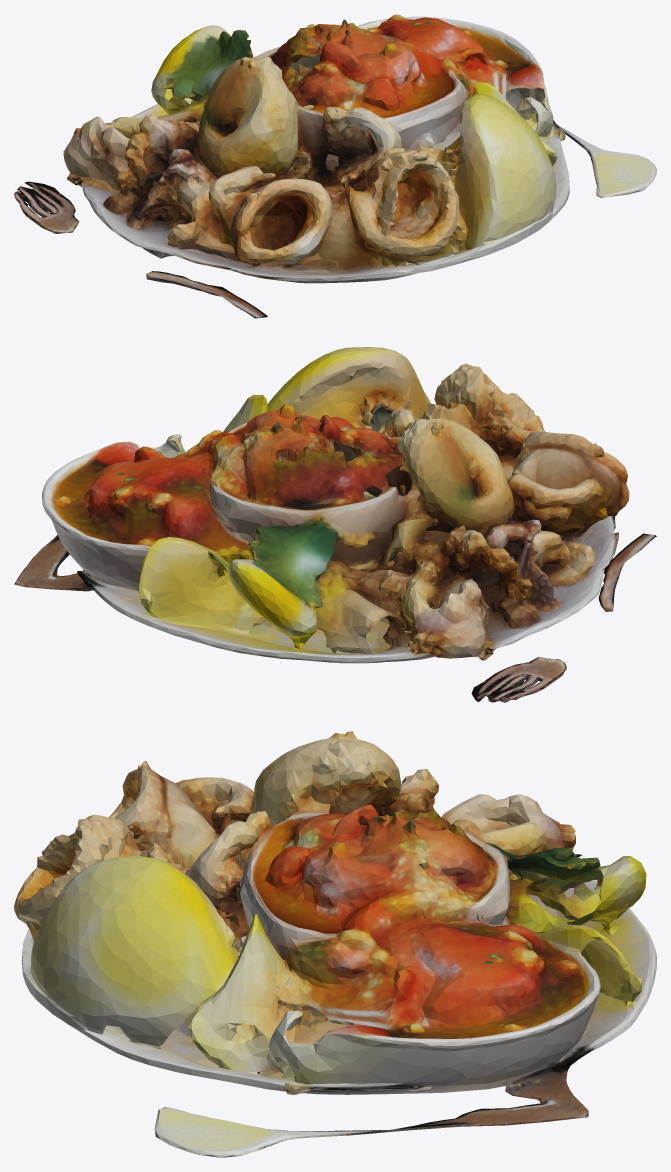
The model's file is Crispy Calamari.glb.
The picture shows the model from 3 angles, top to bottom: view 1: azimuth 30°, elevation 25°; view 2: azimuth 150°, elevation 25°; view 3: azimuth 270°, elevation 25°; orthographic projection. The views are drawn at different scales.
Parts seen in each view (by area): view 1: world; view 2: world; view 3: world.
Boxes of the visible parts, bbox=[...] form: world: bbox=[14, 14, 656, 318]; world: bbox=[14, 347, 656, 702]; world: bbox=[14, 731, 656, 1157].
Bounding box in the file's own units: 0.9922 × 0.3053 × 0.8277.
1 material, 1 textured.
